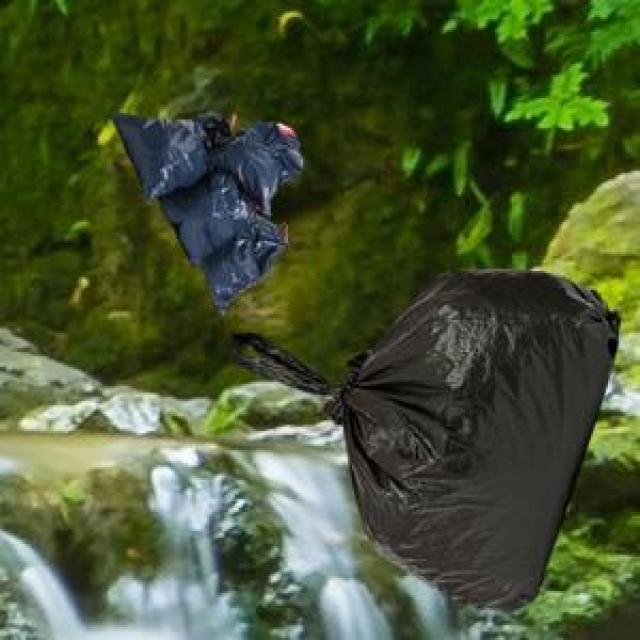Vinyl: (332, 272, 619, 607), (117, 115, 302, 307), (234, 334, 328, 393)
